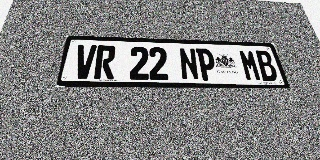2: (130, 46, 149, 80), (149, 47, 168, 80)
B: (254, 50, 279, 81)
M: (238, 50, 263, 81)
N: (178, 48, 200, 80)
P: (196, 48, 218, 80)
R: (94, 45, 116, 79)
V: (72, 44, 97, 79)
